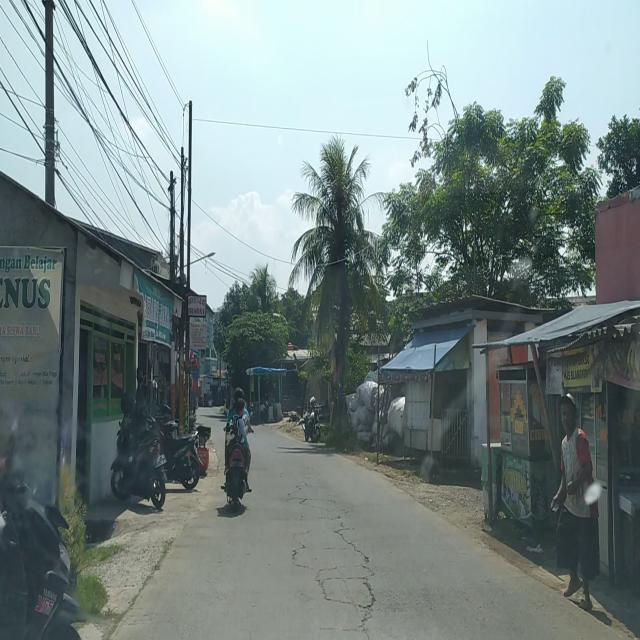Drain Hole: (278, 478, 380, 632)
